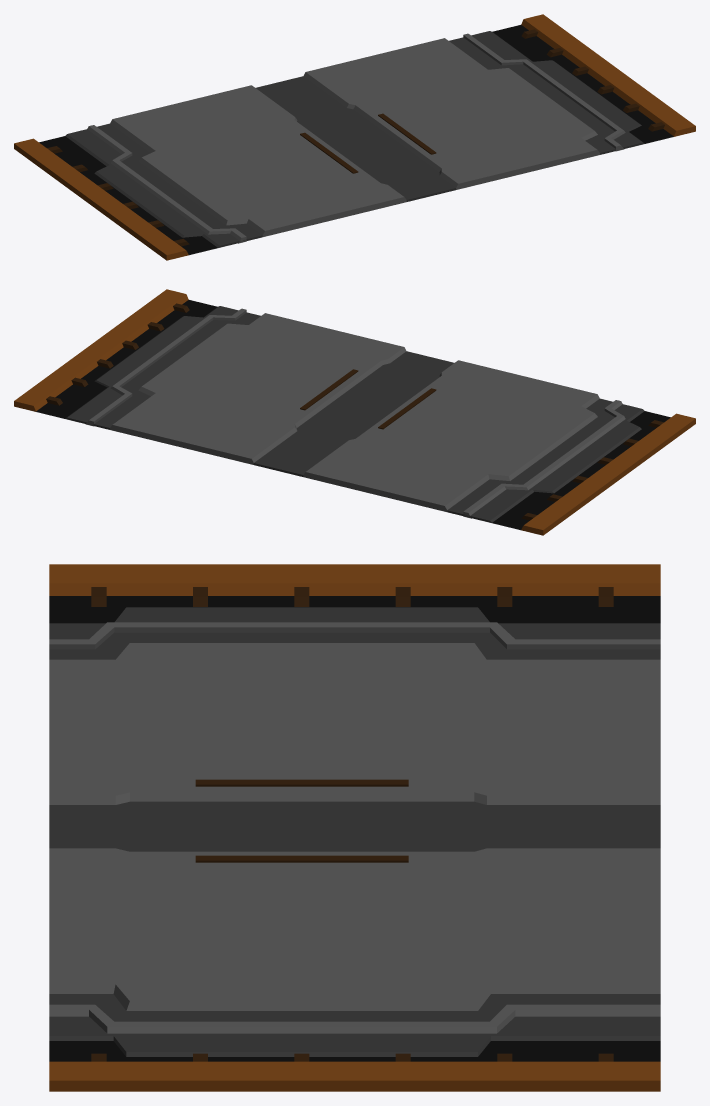
The model's file is FloorTile_Double_Hallway.obj.
The picture shows the model from 3 angles, top to bottom: view 1: azimuth 30°, elevation 25°; view 2: azimuth 150°, elevation 25°; view 3: azimuth 270°, elevation 25°; orthographic projection. The views are drawn at different scales.
Parts seen in each view (by area): view 1: FloorTile_Double_Plane.000; view 2: FloorTile_Double_Plane.000; view 3: FloorTile_Double_Plane.000.
Boxes of the visible parts, x1,y1,x2,y2 form: FloorTile_Double_Plane.000: (14, 14, 695, 260); FloorTile_Double_Plane.000: (14, 289, 695, 535); FloorTile_Double_Plane.000: (49, 564, 660, 1091).
Size of the model in its own units: 4 by 0.0685 by 2.
